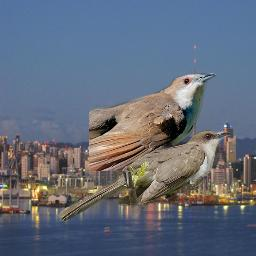Cuckoo: (57, 129, 230, 221), (89, 73, 216, 171)
